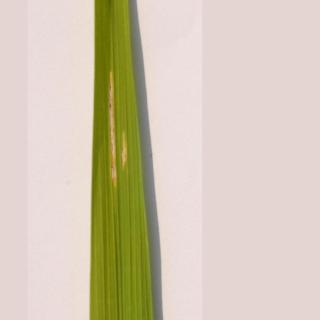Hawar-Daun: (102, 63, 129, 193)
